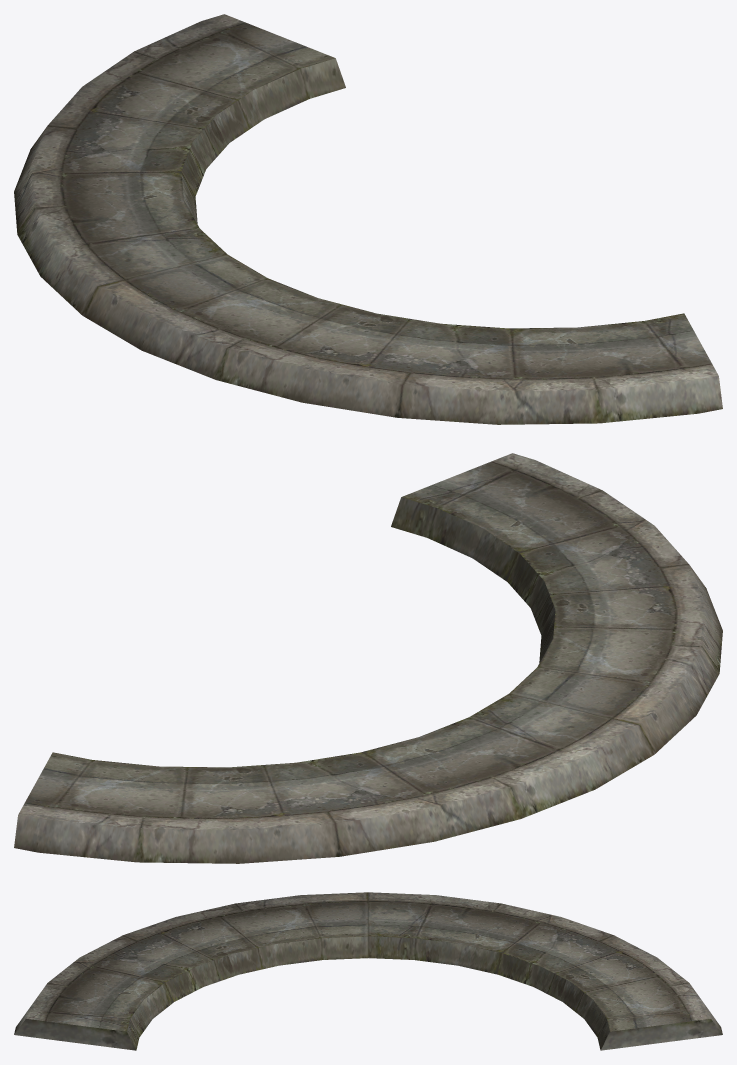
The model's file is bg_lut_lutomb_floor01d_sm_khk.FBX.
The picture shows the model from 3 angles, top to bottom: view 1: azimuth 30°, elevation 25°; view 2: azimuth 150°, elevation 25°; view 3: azimuth 270°, elevation 25°; orthographic projection. The views are drawn at different scales.
Parts seen in each view (by area): view 1: bg_lut_lutomb_floor01d_sm_khk; view 2: bg_lut_lutomb_floor01d_sm_khk; view 3: bg_lut_lutomb_floor01d_sm_khk.
Boxes of the visible parts, x1,y1,x2,y2 form: bg_lut_lutomb_floor01d_sm_khk: (14,14,722,424); bg_lut_lutomb_floor01d_sm_khk: (14,453,722,863); bg_lut_lutomb_floor01d_sm_khk: (14,892,722,1050).
Size of the model in its own units: 181 by 10.3 by 373.
